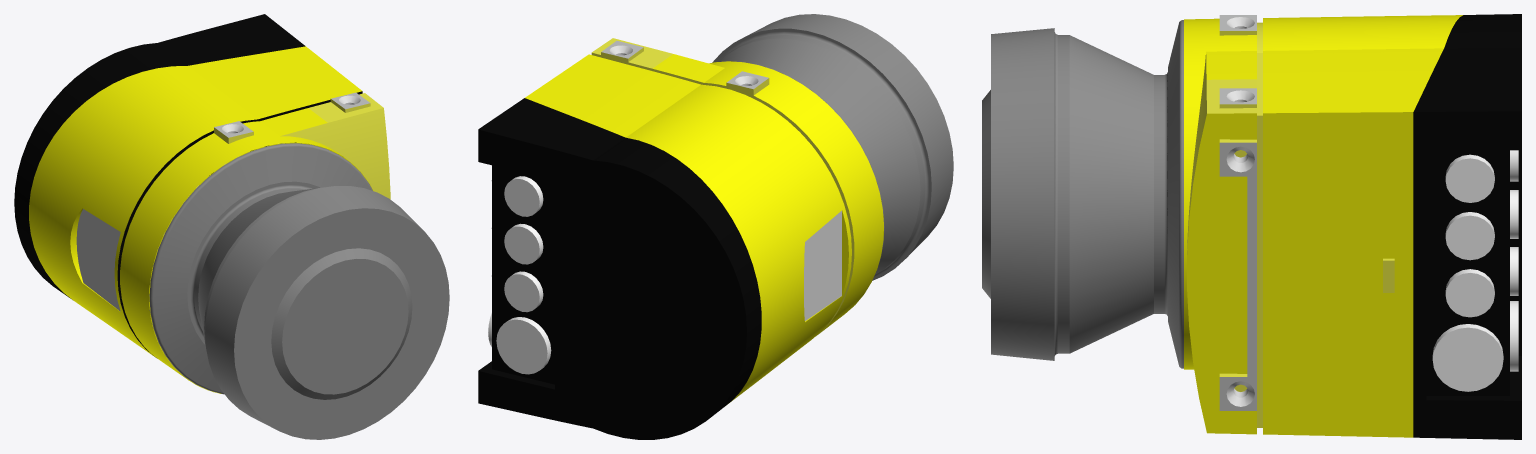
The model's file is SICK-S300.dae.
3 views of the same model, side by side, from view 1: azimuth 30°, elevation 25°; view 2: azimuth 150°, elevation 25°; view 3: azimuth 270°, elevation 25° (orthographic). The views are drawn at different scales.
Visible parts, largest first — view 1: Volumenkörper1; view 2: Volumenkörper1; view 3: Volumenkörper1.
Boxes of the visible parts, x1,y1,x2,y2 form: Volumenkörper1: (14,14,449,439); Volumenkörper1: (478,14,953,439); Volumenkörper1: (982,14,1521,439).
Bounding box in the file's own units: 106 × 152 × 102.
